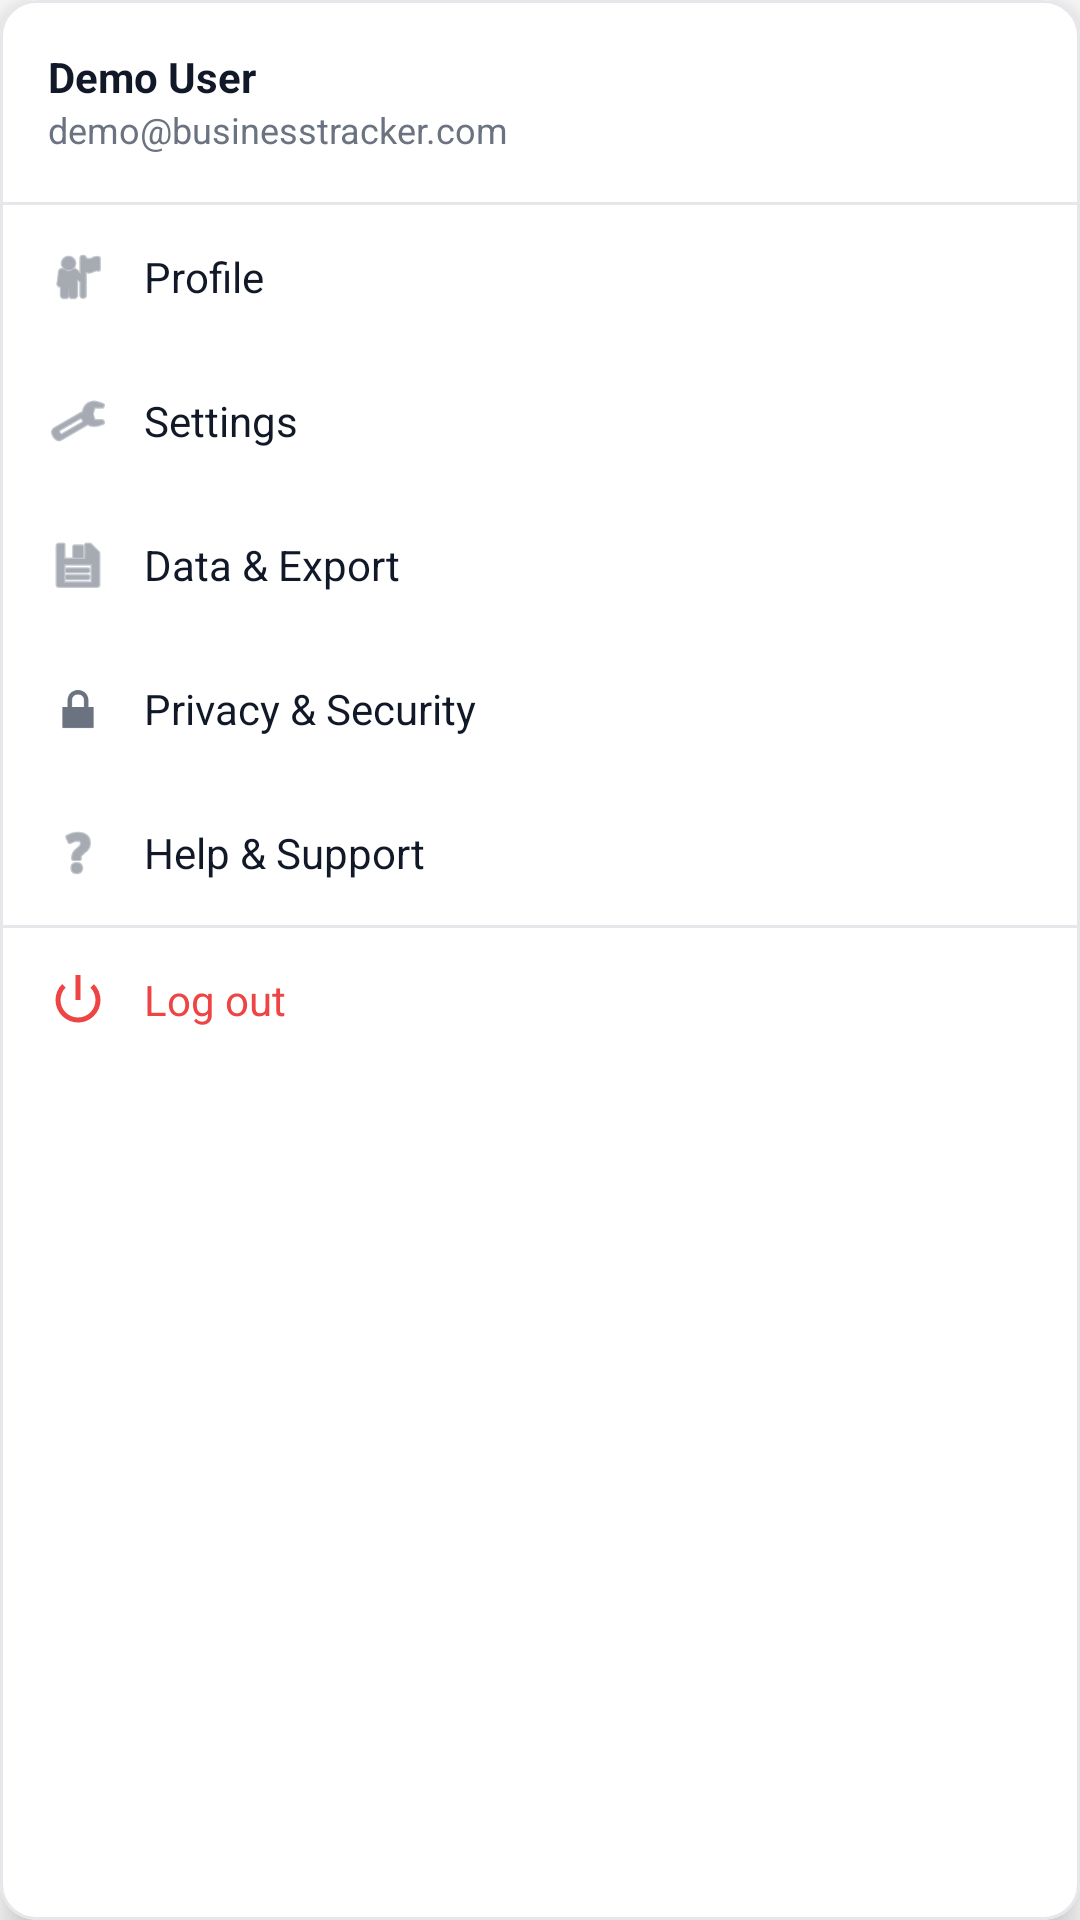

Icons on this 1080*1920 Android screen, each with its box as (x1, y1, x2, y2):
lock: (62, 690, 94, 728)
lock power off: (55, 975, 101, 1023)
manage: (51, 400, 105, 442)
save: (55, 542, 101, 588)
